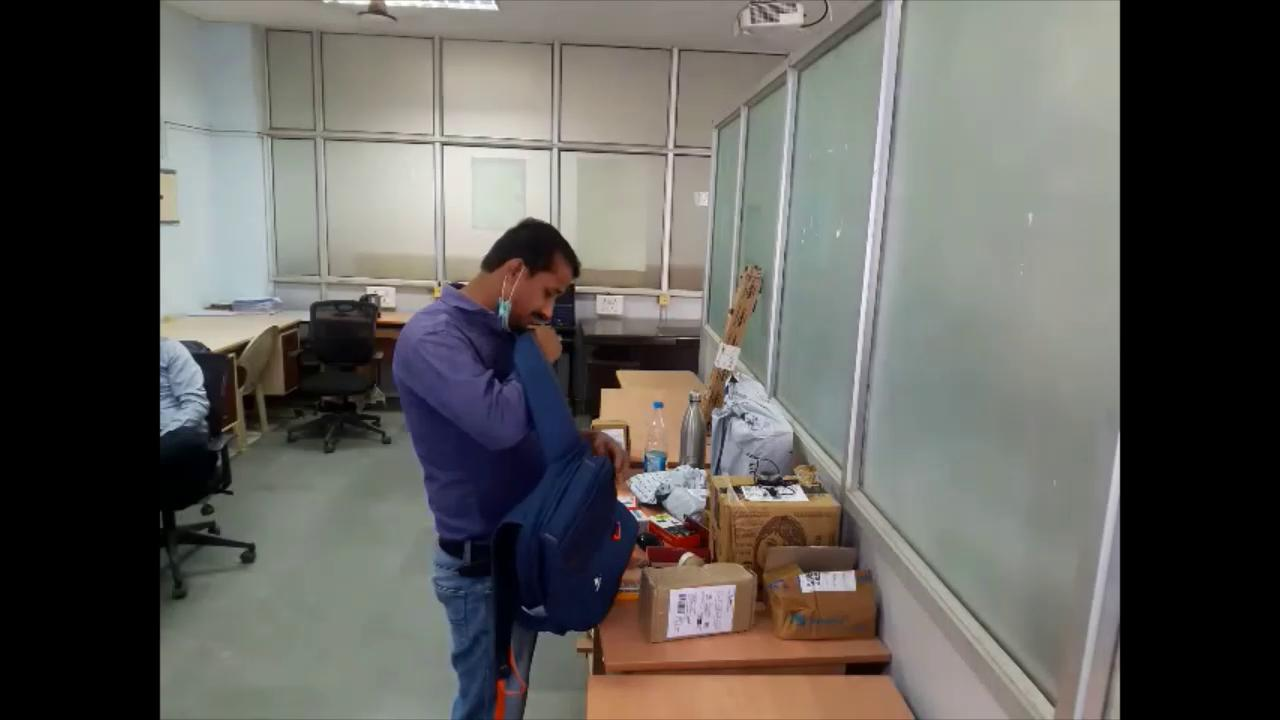Normal: (388, 214, 650, 720)
